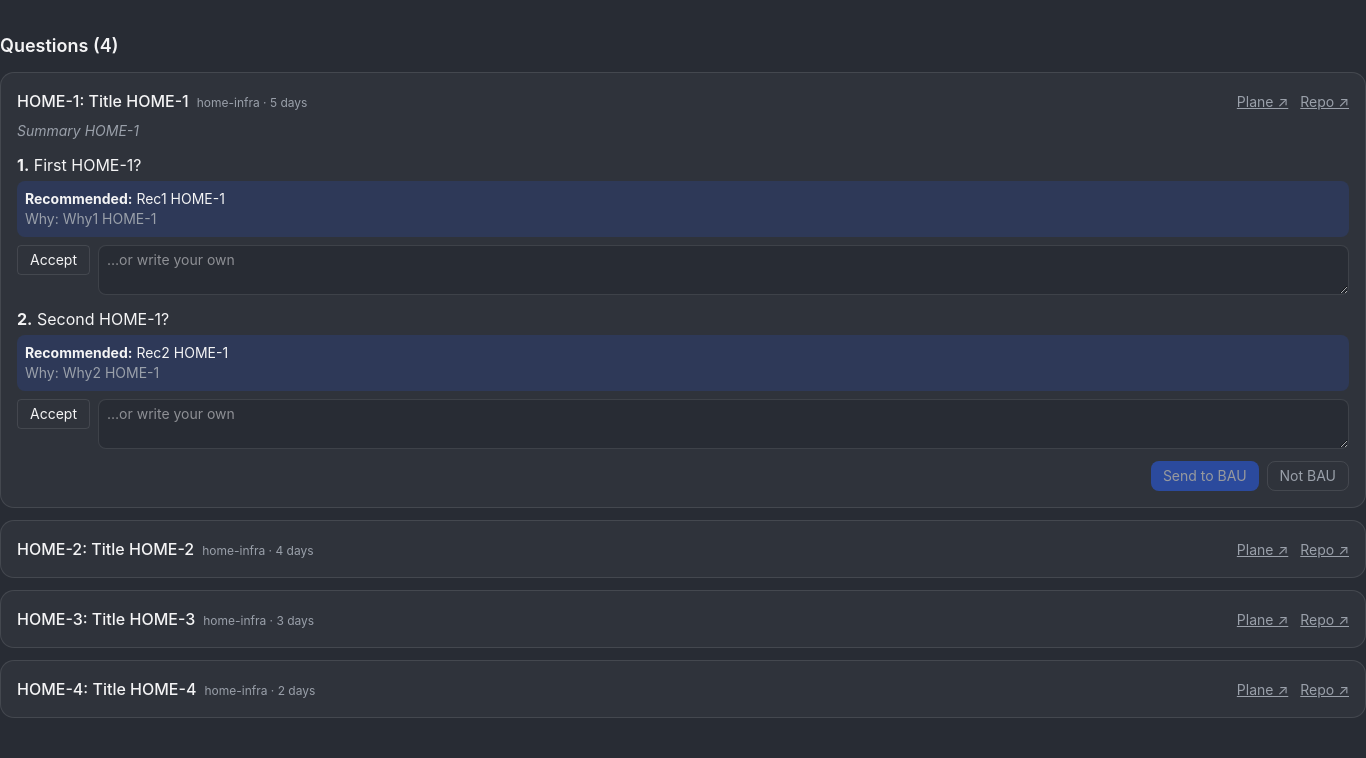
Test: Questions › not BAU removes the card and opens the next
Step 1. Click the button "Not BAU" → {"x": 1308, "y": 476}, box [1267,461,1349,491]
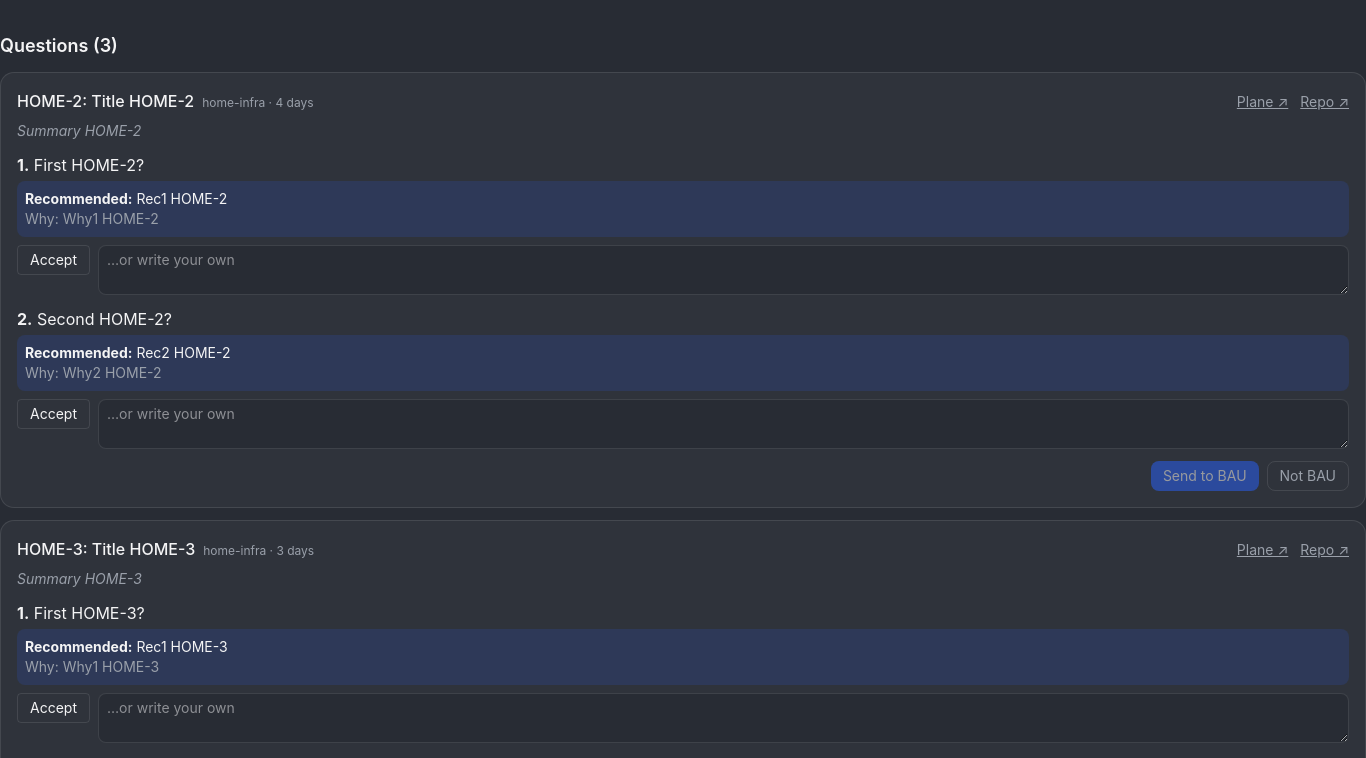
Now the button "Title HOME-1" is gone
Now the text "First HOME-2?" is shown, box [34,155,144,175]
